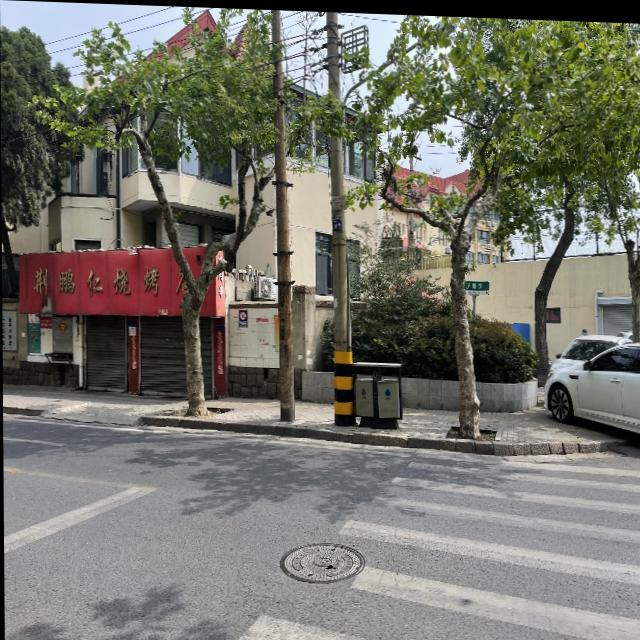garbage_bin: (352, 358, 402, 426)
